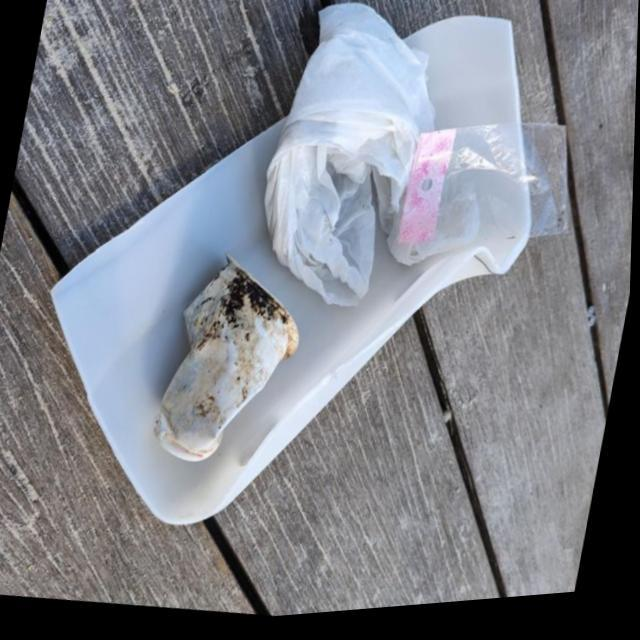leaf: (146, 268, 310, 476), (415, 98, 582, 300)
metal: (252, 0, 490, 328)
